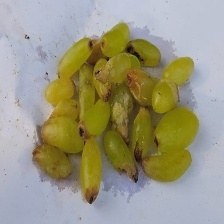grapes: (25, 23, 190, 172)
